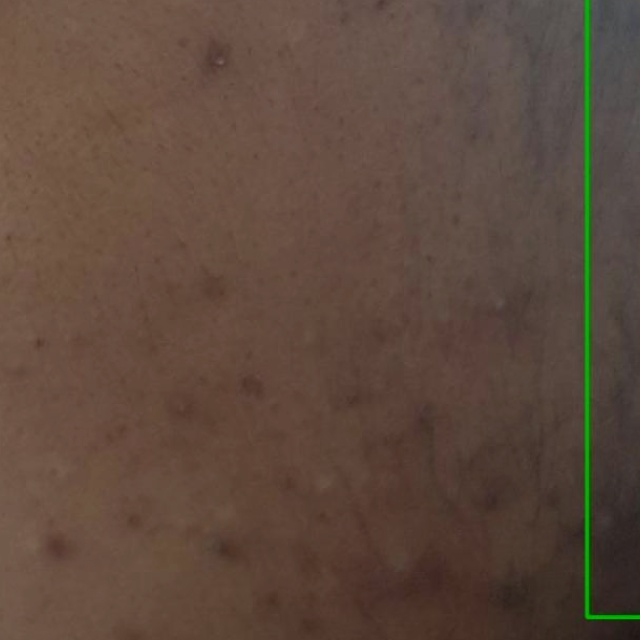Seborrheic Dermatitis: (586, 0, 639, 617)
